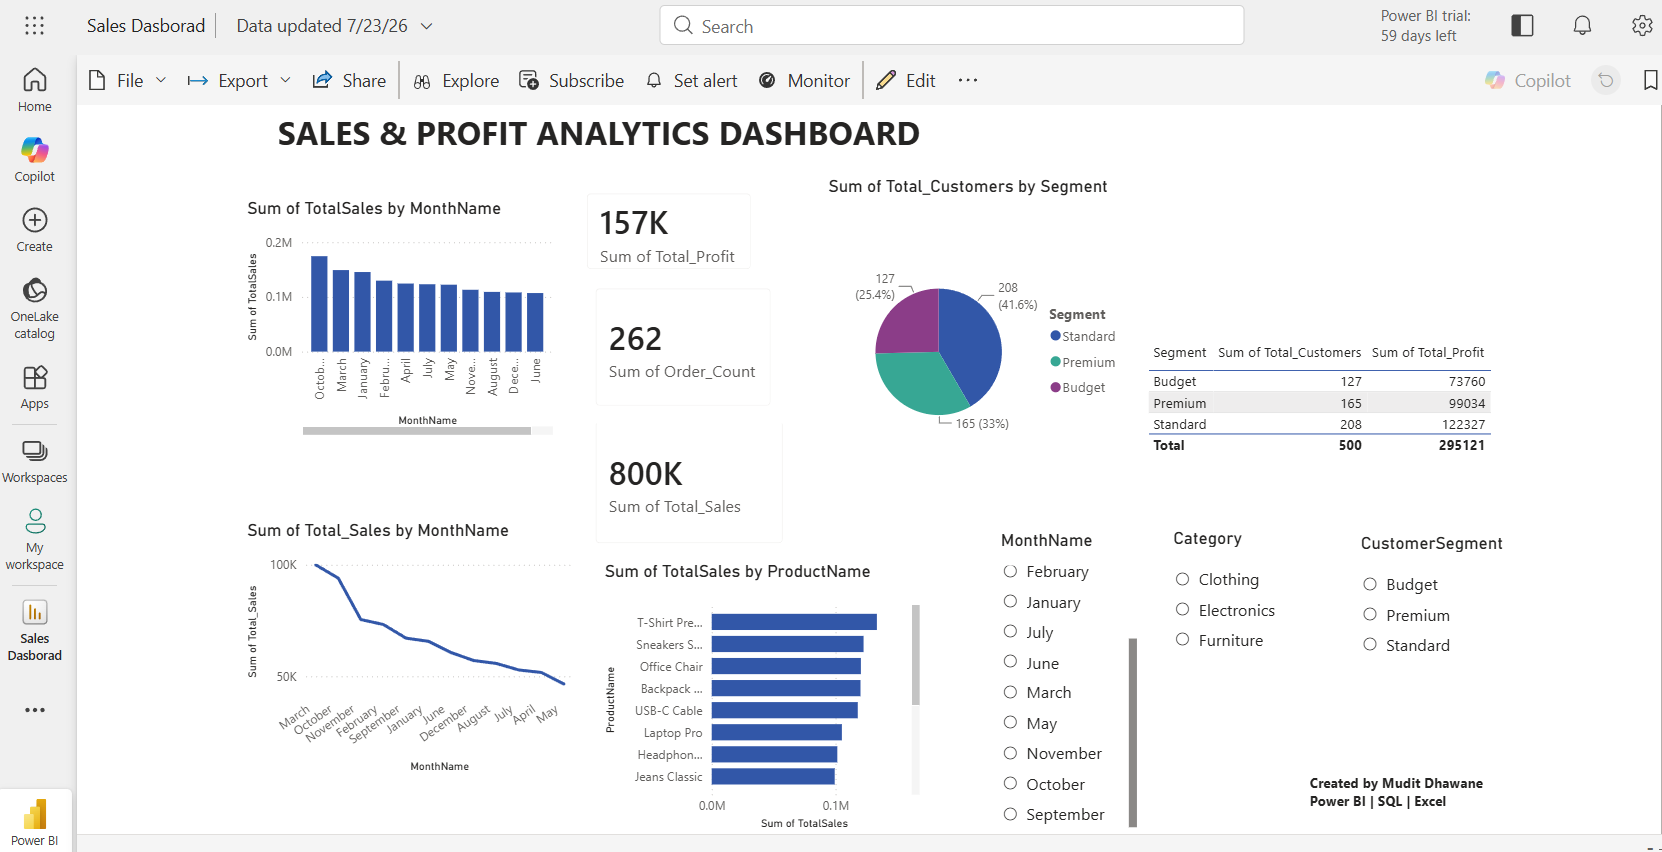

This screenshot's page, from the dashboard's own definition file:
{"tool":"powerbi","page":{"name":"Page 1","canvas":[1280,720],"ordinal":0},"visuals":[{"type":"clusteredColumnChart","fields":{"Category":["Orders_Raw.MonthName"],"Y":["Sum(Orders_Raw.TotalSales)"]},"box":[21.3,91.3,312.1,239],"z":0},{"type":"cardVisual","fields":{"Data":["Sum(Daily_Summary.Total_Sales)"]},"box":[353.2,295.3,219.2,155.3],"z":1000},{"type":"cardVisual","fields":{"Data":["Sum(Daily_Summary.Total_Profit)"]},"box":[344.1,70,196.4,109.6],"z":2000},{"type":"cardVisual","fields":{"Data":["Sum(Daily_Summary.Order_Count)"]},"box":[353.2,164.4,207,150.7],"z":3000},{"type":"pieChart","fields":{"Category":["Customer_Segmentation.Segment"],"Y":["Sum(Customer_Segmentation.Total_Customers)"]},"box":[595.2,70,303,316.7],"z":4000},{"type":"lineChart","fields":{"Category":["Daily_Summary.MonthName"],"Y":["Sum(Daily_Summary.Total_Sales)"]},"box":[21.3,409.5,331.9,254.2],"z":5000},{"type":"barChart","fields":{"Category":["Orders_Raw.ProductName"],"Y":["Sum(Orders_Raw.TotalSales)"]},"box":[374.5,450.6,321.2,269.5],"z":6000},{"type":"tableEx","fields":{"Values":["Customer_Segmentation.Segment","Sum(Customer_Segmentation.Total_Customers)","Sum(Customer_Segmentation.Total_Profit)"]},"box":[910.4,228.4,369.9,143.1],"z":7000},{"type":"textbox","box":[21.3,0,704.9,54.8],"z":8000},{"type":"listSlicer","fields":{"Values":["Orders_Raw.MonthName"]},"box":[765.7,420.2,144.6,299.9],"z":9000},{"type":"listSlicer","fields":{"Values":["Orders_Raw.Category"]},"box":[936.3,417.1,159.8,298.4],"z":10000},{"type":"listSlicer","fields":{"Values":["Orders_Raw.CustomerSegment"]},"box":[1120.5,421.7,159.8,289.2],"z":11000},{"type":"textbox","box":[1070.2,656.1,210.1,54.8],"z":12000}]}

Visuals, with their boxes on the page's 1280x720 design canvas (x1, y1, x2, y2). These are canvas units, not pixel positions in the 1662x852 screenshot, which may show the page scaled, cropped or inside an application window:
clusteredColumnChart - Orders_Raw.MonthName x Sum(Orders_Raw.TotalSales): x1=21 y1=91 x2=333 y2=330
cardVisual - Sum(Daily_Summary.Total_Sales): x1=353 y1=295 x2=572 y2=451
cardVisual - Sum(Daily_Summary.Total_Profit): x1=344 y1=70 x2=540 y2=180
cardVisual - Sum(Daily_Summary.Order_Count): x1=353 y1=164 x2=560 y2=315
pieChart - Customer_Segmentation.Segment x Sum(Customer_Segmentation.Total_Customers): x1=595 y1=70 x2=898 y2=387
lineChart - Daily_Summary.MonthName x Sum(Daily_Summary.Total_Sales): x1=21 y1=410 x2=353 y2=664
barChart - Orders_Raw.ProductName x Sum(Orders_Raw.TotalSales): x1=374 y1=451 x2=696 y2=720
tableEx - Customer_Segmentation.Segment x Sum(Customer_Segmentation.Total_Customers): x1=910 y1=228 x2=1280 y2=372
textbox: x1=21 y1=0 x2=726 y2=55
listSlicer - Orders_Raw.MonthName: x1=766 y1=420 x2=910 y2=720
listSlicer - Orders_Raw.Category: x1=936 y1=417 x2=1096 y2=716
listSlicer - Orders_Raw.CustomerSegment: x1=1120 y1=422 x2=1280 y2=711
textbox: x1=1070 y1=656 x2=1280 y2=711
